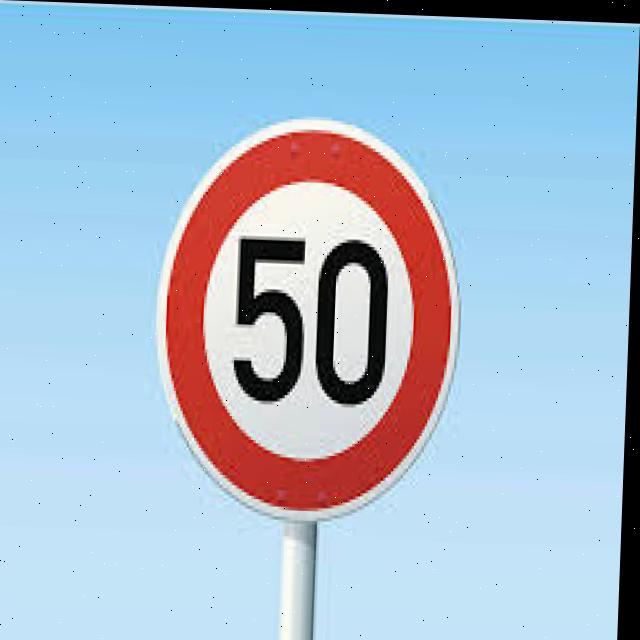Speed limit 50: (149, 108, 473, 527)
